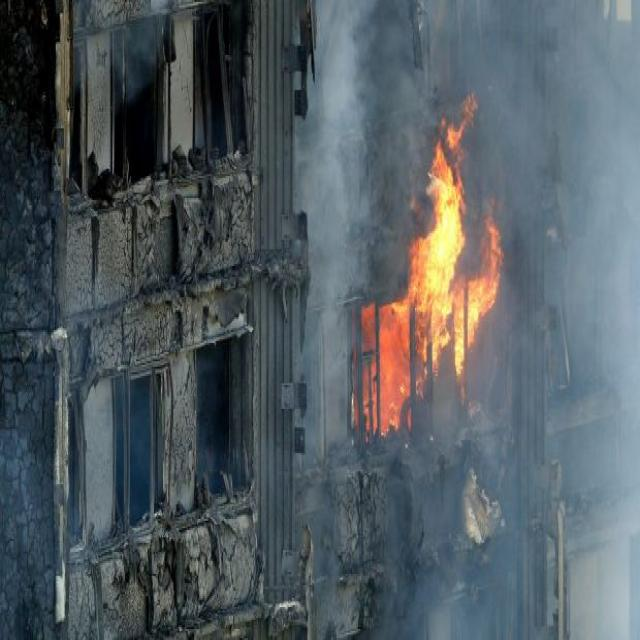fire: (406, 140, 504, 374)
smoke: (507, 1, 639, 634), (305, 3, 400, 293), (414, 407, 503, 640)
